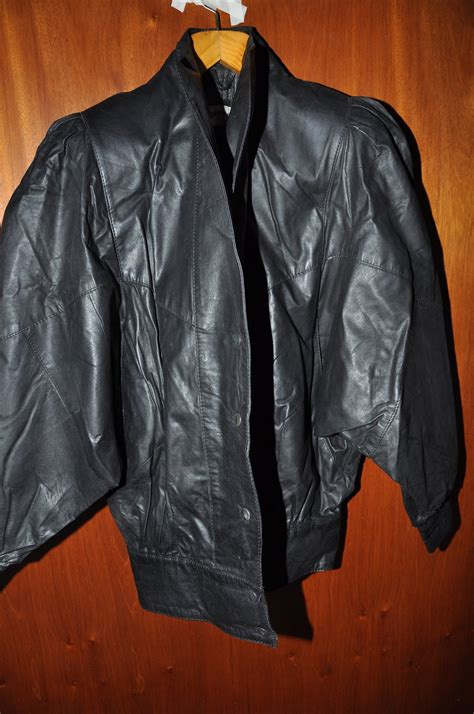cuero: (2, 26, 467, 648)
